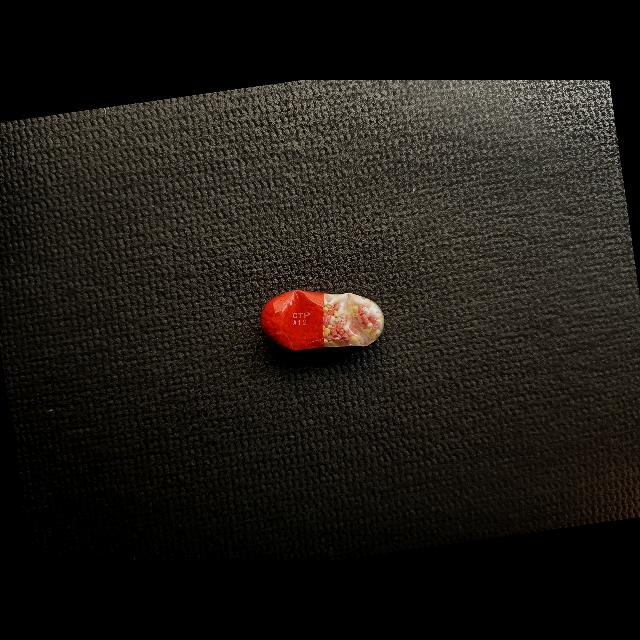Defective Capsule: (260, 290, 385, 351)
